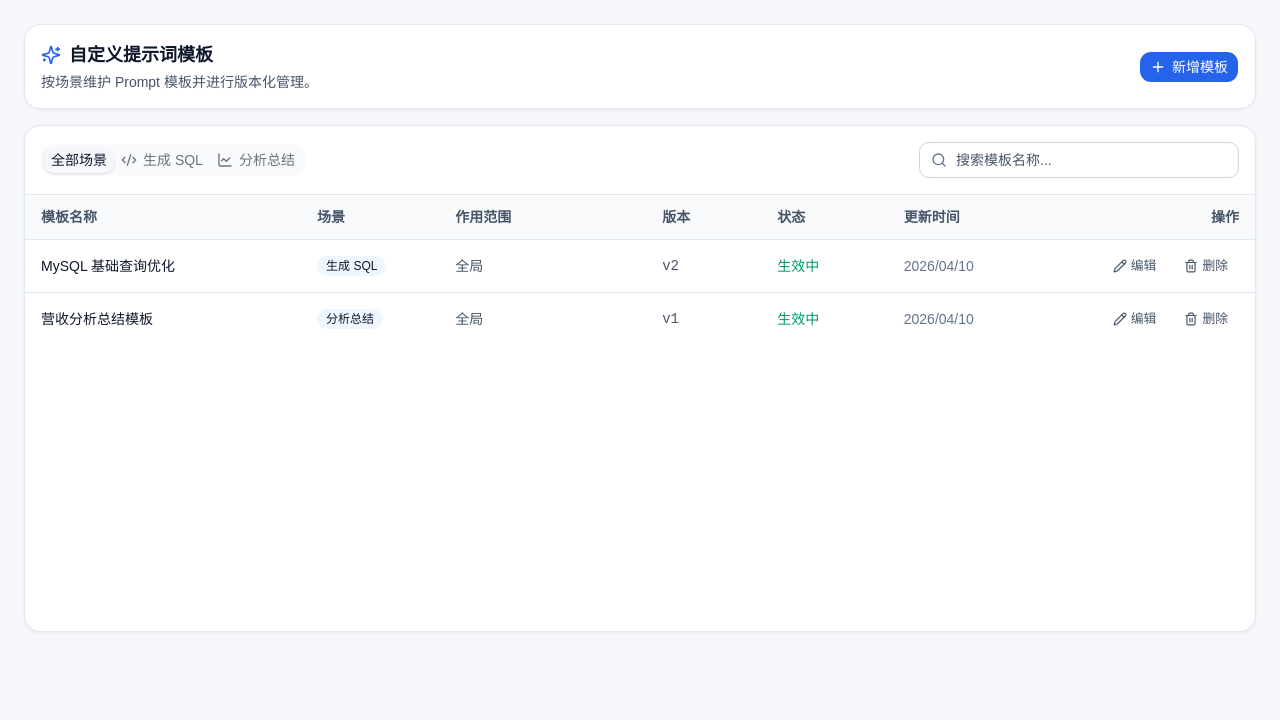
Test: PromptsPage › shows minimal error message for INTERNAL_ERROR
Expected: the text "MySQL 基础查询优化" is shown, [25,239,301,292]
Click the button "新增模板" at coordinates (1189, 66), box [1139,50,1239,82]
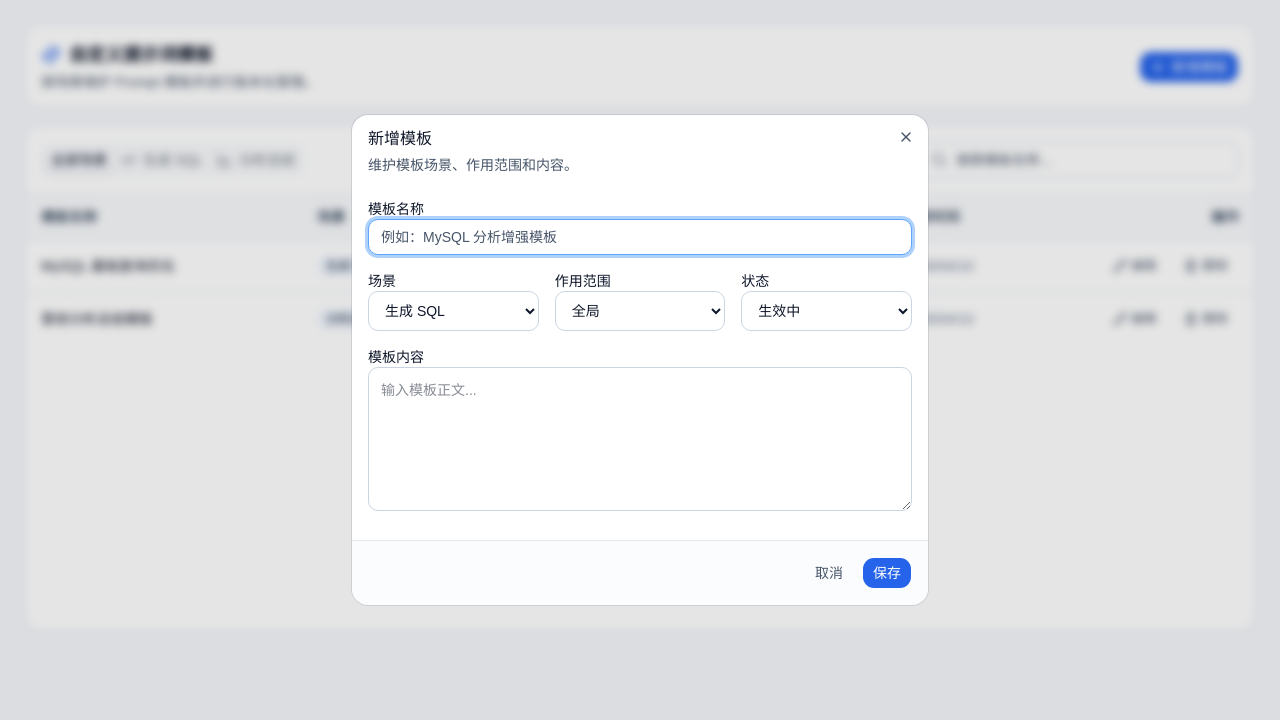
Type "失败模板" into the field labelled "模板名称" at coordinates (640, 237), box [368,219,912,255]
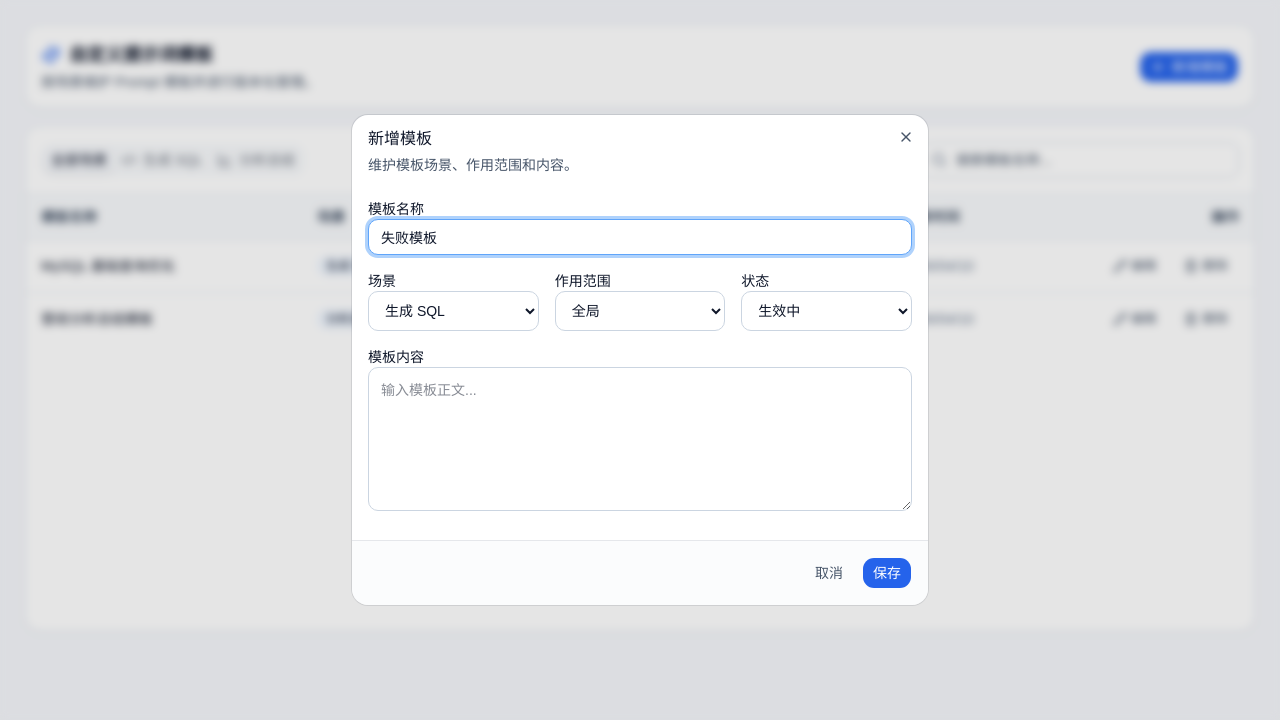
Type "prompt template body" into the text box labelled "模板内容" at coordinates (640, 439), box [368,367,912,511]
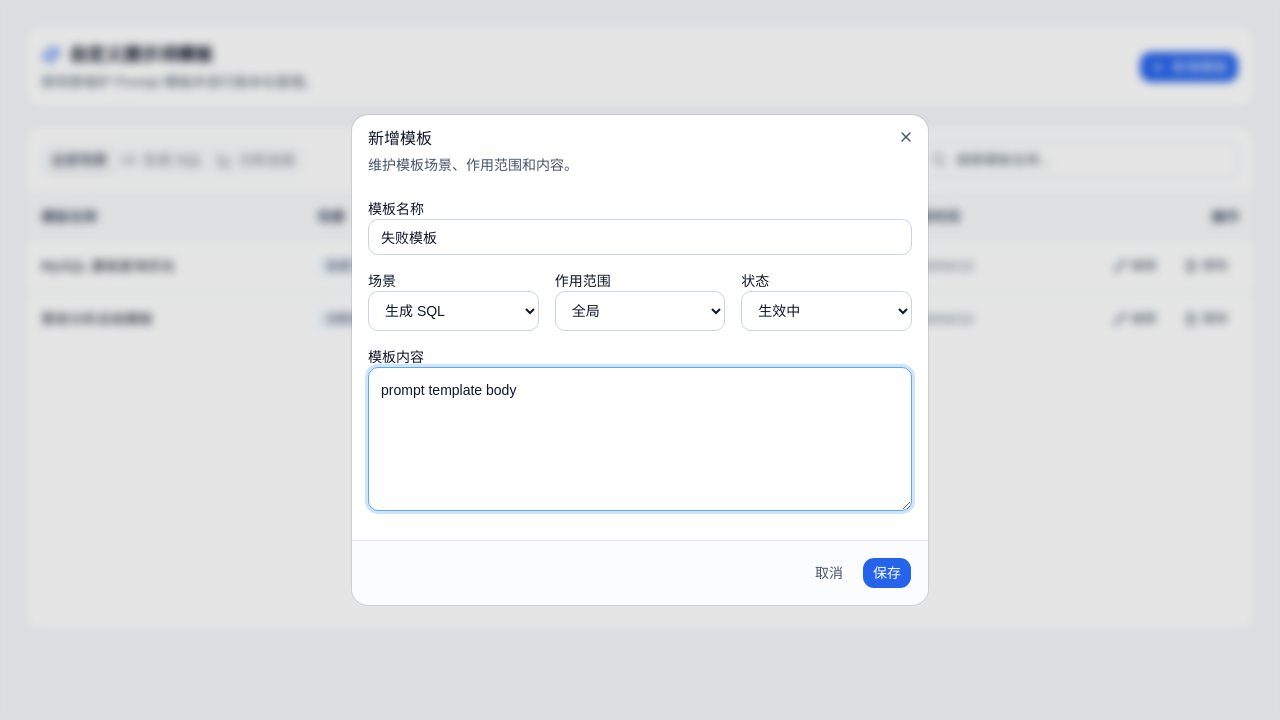
Click the button "保存" at coordinates (887, 573), box [862,557,912,589]
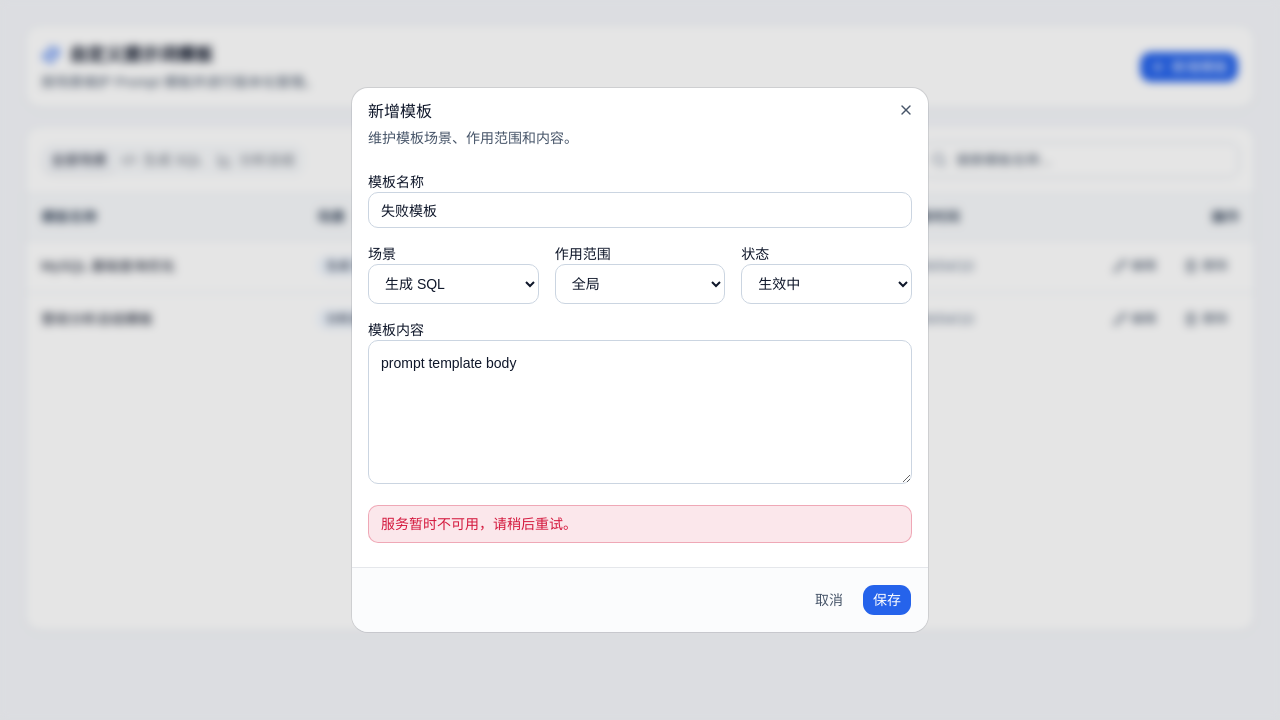
Result: the text "服务暂时不可用，请稍后重试。" is shown at [368,505,912,543]
